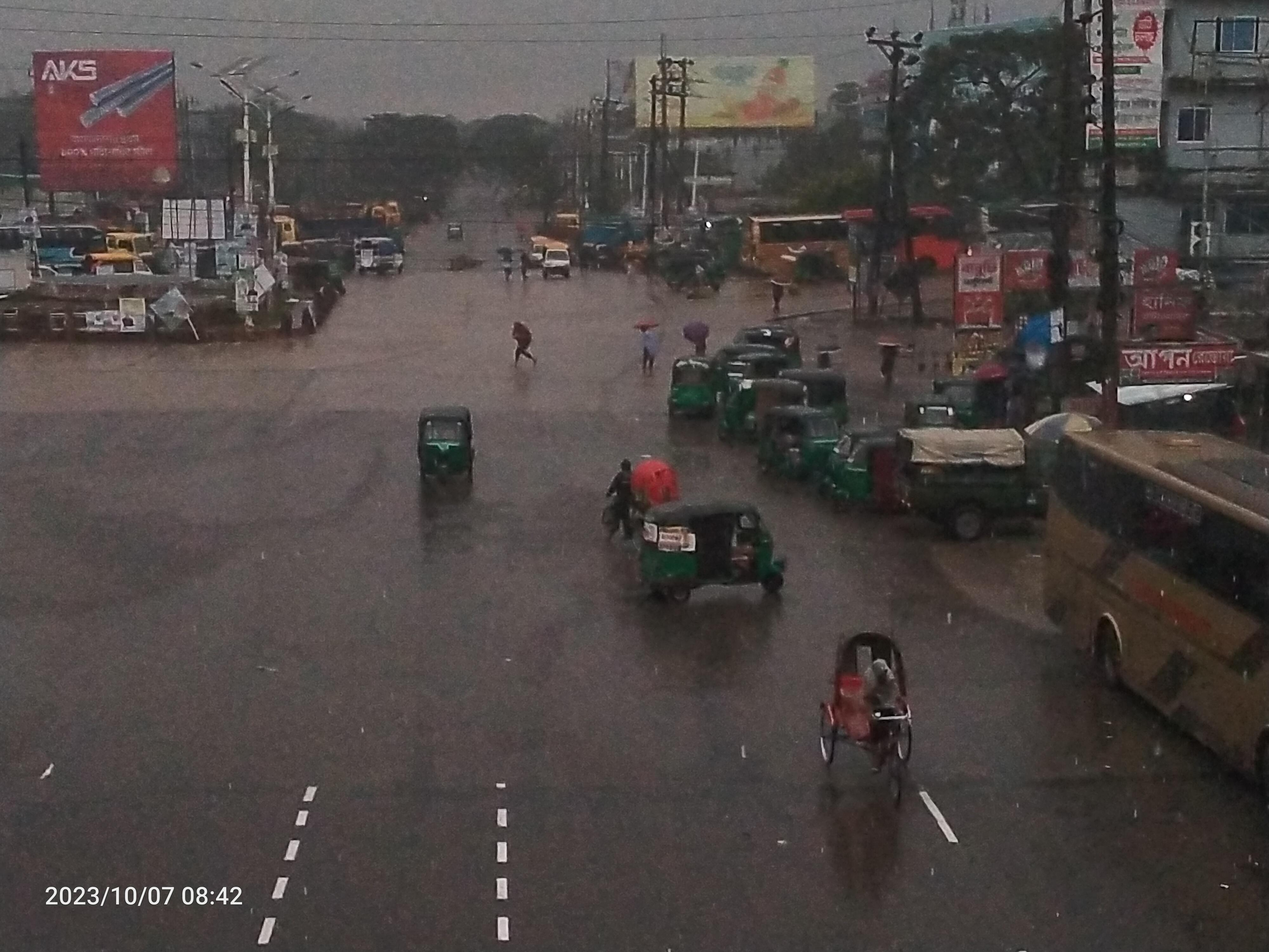Bus: (1036, 405, 1269, 808), (838, 184, 986, 285), (742, 201, 870, 297), (0, 213, 112, 288)
Car: (804, 622, 947, 822), (598, 446, 675, 548), (355, 231, 415, 279), (535, 237, 575, 284)
Truck: (902, 408, 1063, 547), (255, 202, 394, 243)
